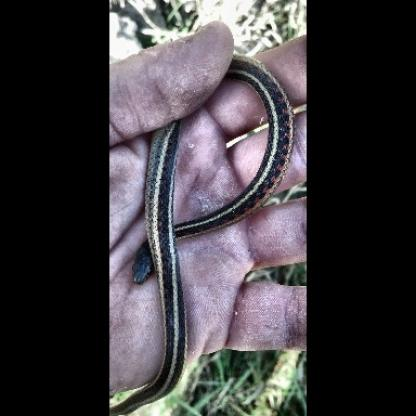Snake: (119, 81, 224, 410)
